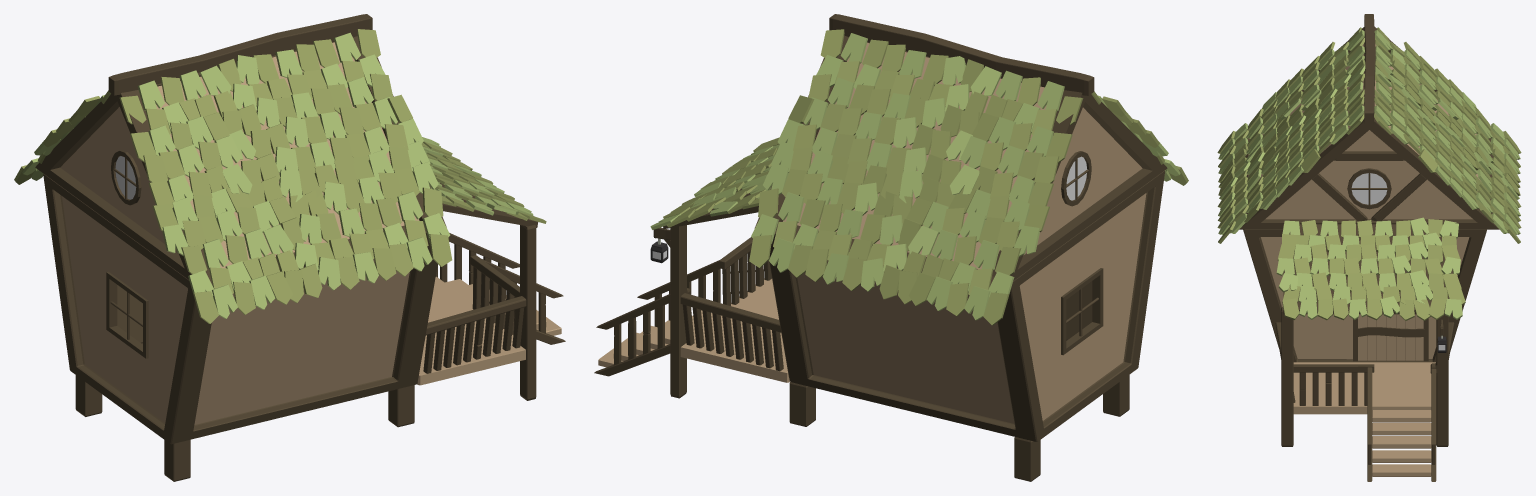
File: CDHouse1.fbx
3 renders of one model, left to right at view 1: azimuth 30°, elevation 25°; view 2: azimuth 150°, elevation 25°; view 3: azimuth 270°, elevation 25°, orthographic. The views are drawn at different scales.
Visible parts, largest first — view 1: Cube.015, Vert.004, Vert.003, Cube.016, Cube.025, Cube.021, Cube.018, Cube.020, Vert.007, Cube.058, Vert.008, Cube.026 (+9 smaller); view 2: Cube.015, Vert.004, Vert.003, Cube.016, Cube.025, Cube.021, Cube.018, Cube.020, Vert.007, Cube.024, Cube.058, Vert.008 (+8 smaller); view 3: Vert.004, Vert.003, Cube.016, Vert.007, Vert.008, Cube.015, Cube.018, Plane.006, Cube.020, kapı, Plane.011, Cube.023 (+8 smaller).
Part boxes in pixels (x1,y1,x2,y2): Cube.015: [43, 174, 437, 444]; Vert.004: [14, 29, 452, 323]; Vert.003: [22, 32, 450, 318]; Cube.016: [35, 36, 446, 284]; Cube.025: [108, 14, 372, 95]; Cube.021: [423, 307, 524, 373]; Cube.018: [417, 276, 525, 385]; Cube.020: [435, 225, 536, 400]; Vert.007: [421, 141, 546, 223]; Cube.058: [75, 375, 190, 481]; Vert.008: [422, 137, 533, 215]; Cube.026: [106, 271, 148, 358]; Cube.015: [769, 171, 1164, 441]; Vert.004: [749, 29, 1188, 325]; Vert.003: [751, 33, 1180, 320]; Cube.016: [754, 35, 1167, 285]; Cube.025: [829, 14, 1094, 95]; Cube.021: [682, 304, 783, 371]; Cube.018: [680, 278, 790, 382]; Cube.020: [670, 225, 690, 398]; Vert.007: [663, 137, 779, 227]; Cube.024: [614, 269, 720, 365]; Cube.058: [1014, 375, 1129, 481]; Vert.008: [650, 144, 779, 229]; Vert.004: [1217, 27, 1521, 243]; Vert.003: [1218, 30, 1520, 234]; Cube.016: [1239, 27, 1499, 229]; Vert.007: [1277, 219, 1465, 320]; Vert.008: [1276, 217, 1462, 319]; Cube.015: [1243, 229, 1486, 362]; Cube.018: [1293, 362, 1435, 414]; Plane.006: [1372, 410, 1431, 476]; Cube.020: [1281, 307, 1448, 446]; kapı: [1357, 314, 1424, 360]; Plane.011: [1312, 151, 1426, 220]; Cube.023: [1299, 372, 1367, 405].
Bounding box in the file's own units: 1193 × 923 × 860.
